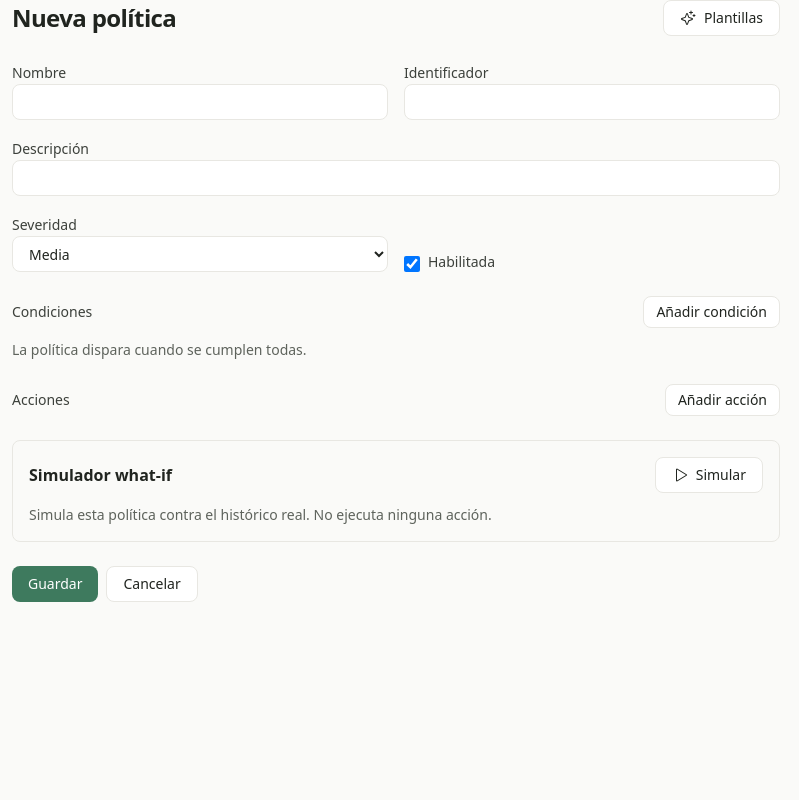
cambiar una condición después de simular cierra otra vez la puerta
Click the button "Añadir condición".
click(712, 312)  # box [643, 296, 780, 328]
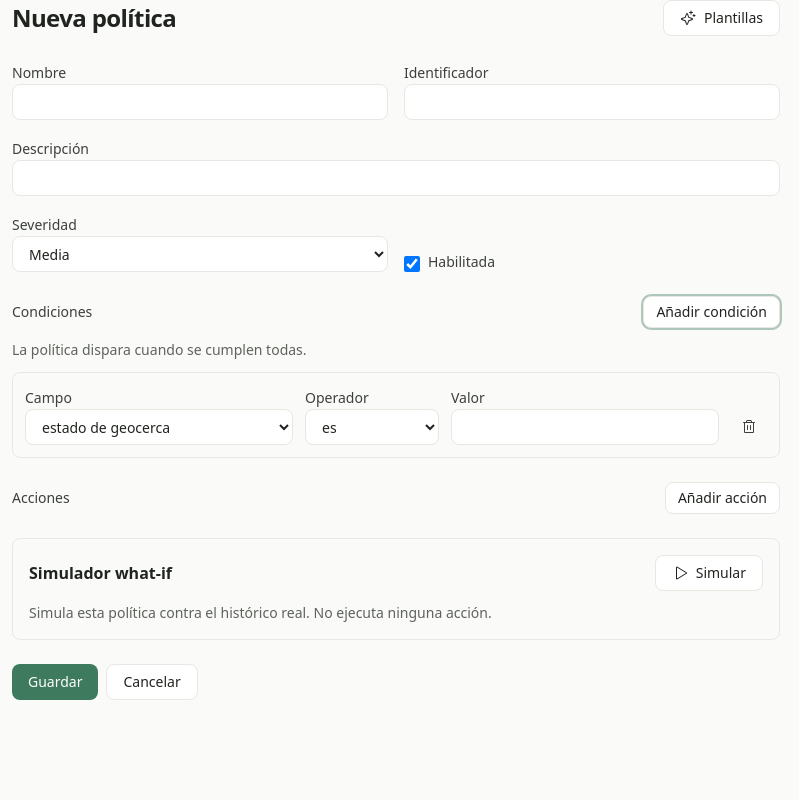
Click the button "Añadir acción".
click(722, 498)  # box [665, 482, 780, 514]
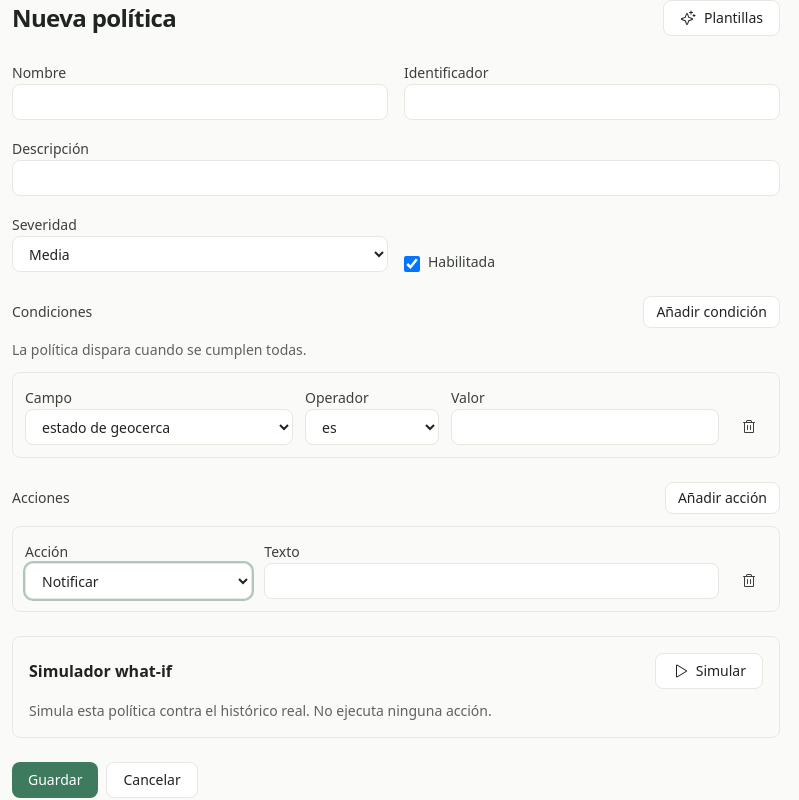
Select "Borrado completo" in the dropdown labelled "Acción" at (139, 581), box [25, 563, 252, 599]
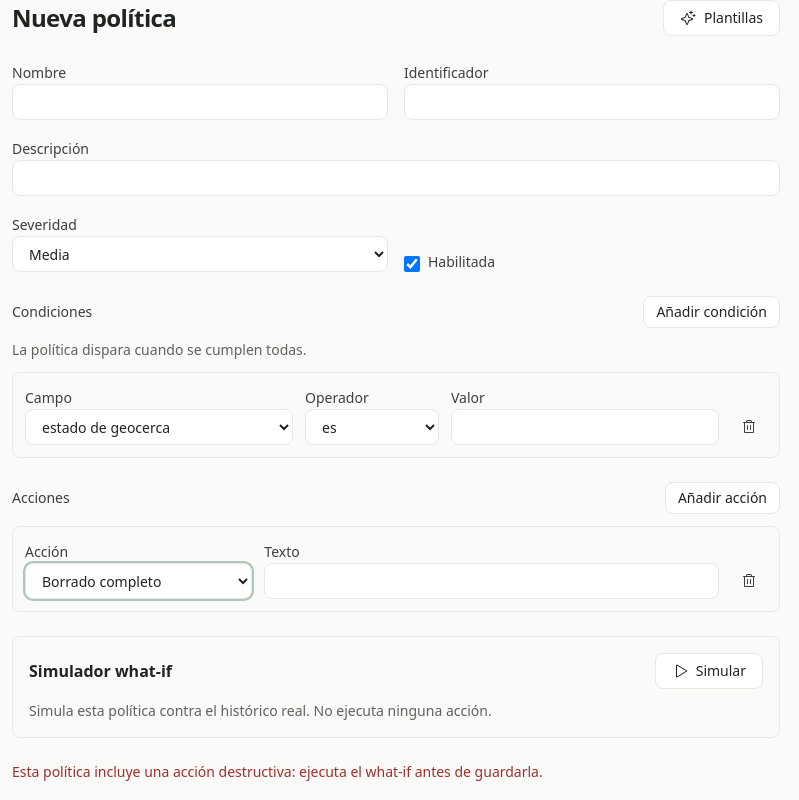
Click the button "Simular".
click(709, 671)  # box [655, 653, 763, 689]
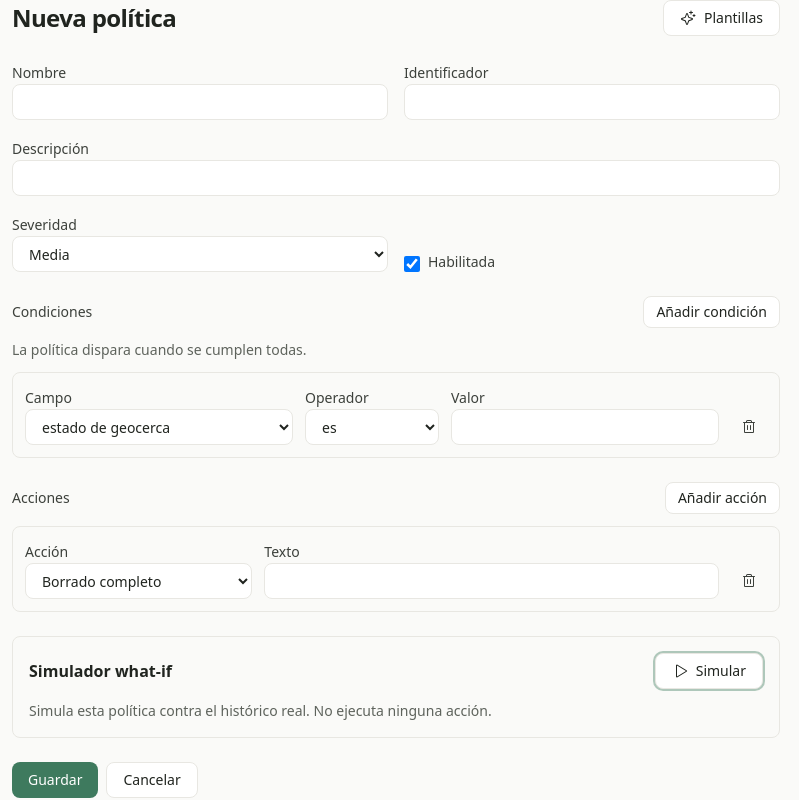
Expected: the button "Guardar" is enabled, [12, 762, 98, 798]
Type "outside" into the field labelled "Valor".
click(585, 427); type("outside")  # box [451, 409, 719, 445]
(page scrolled)
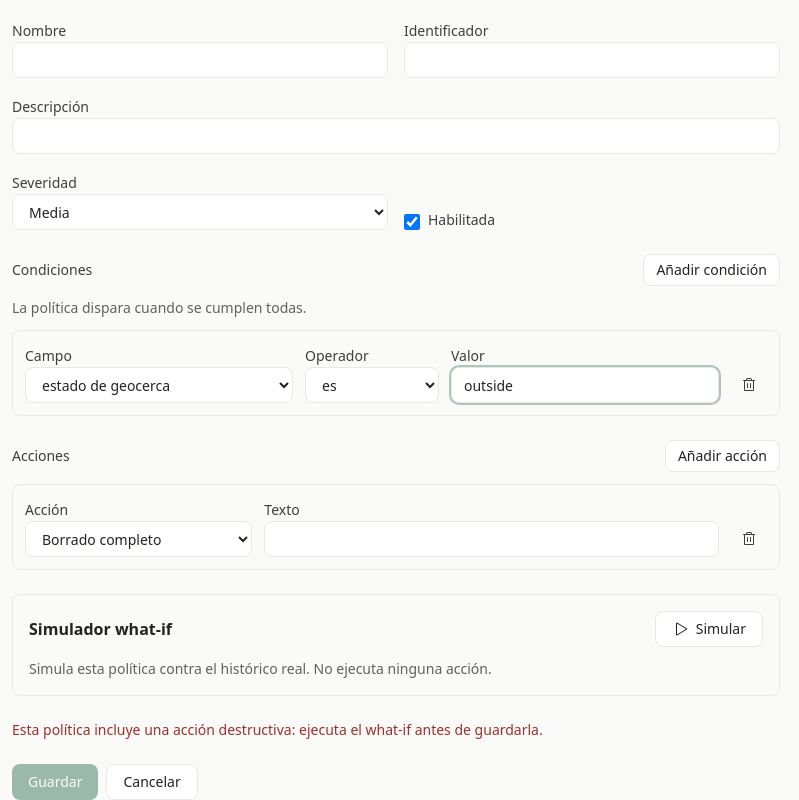
Expected: the button "Guardar" is disabled, [12, 764, 98, 799]
